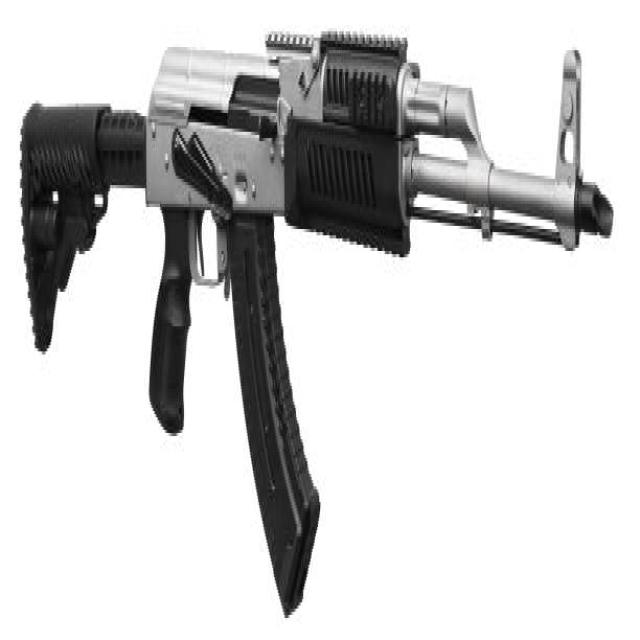rifle: (16, 18, 620, 626)
